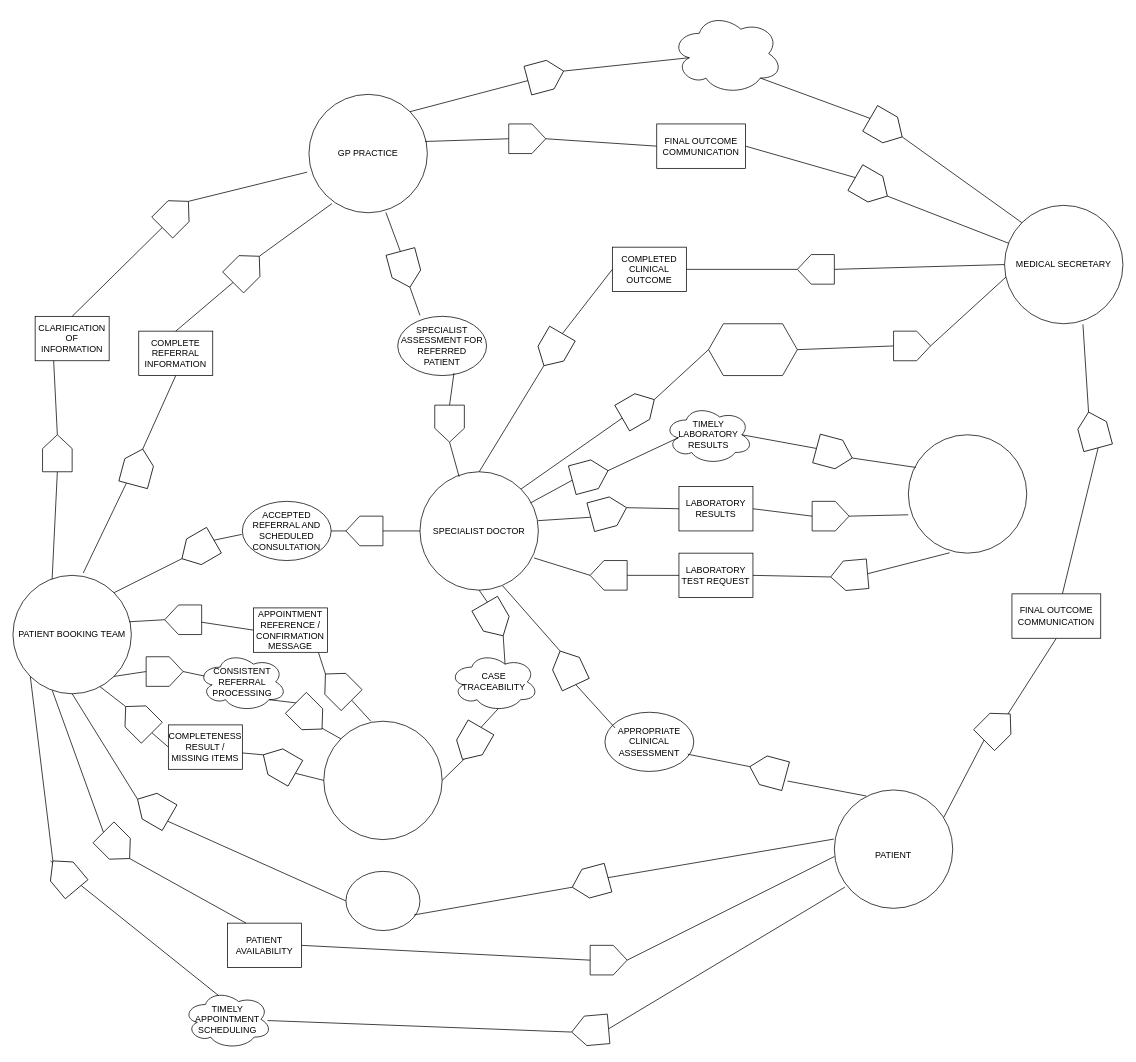
Image size: 1136x1062. Some labels were removed from this diagram. The shapes that lost their labels are listed below. From the top down, each one's centre as x and y in pixels, then its label:
At (x=727, y=53): "ACCURATE AND TIMELY OUTCOME COMMUNICATION".
At (x=752, y=349): "SEND OUTCOME COMMUNICATION".
At (x=967, y=493): "LABORATORY TEAM".
At (x=382, y=780): "WORKFLOW AUTOMATION SYSTEM".
At (x=382, y=901): "CONSULTATION APPOINTMENT".
